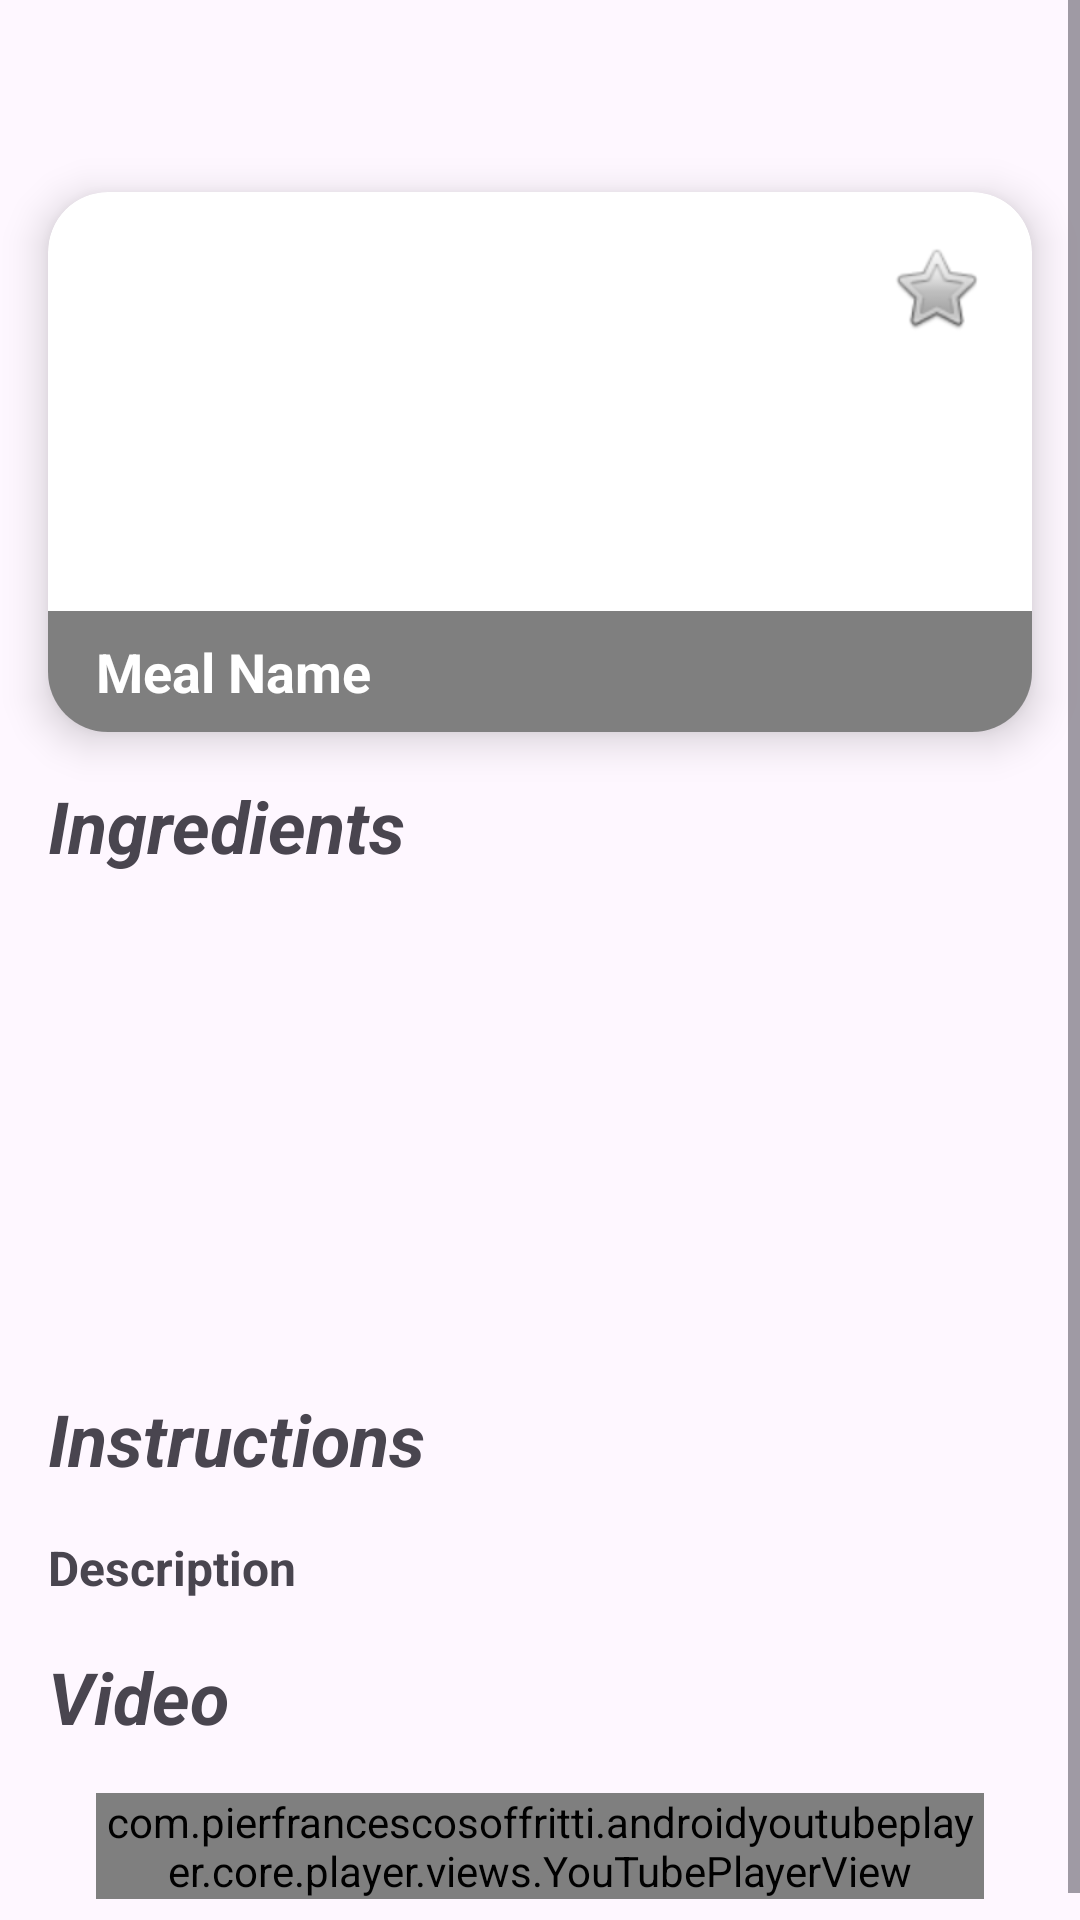

Icon bounding boxes for this 1080×1920 phone screenshot, format (x1,y1,x2,y2):
star off: (897,250,977,328)
